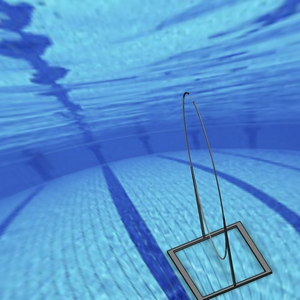circle: (166, 88, 275, 299)
